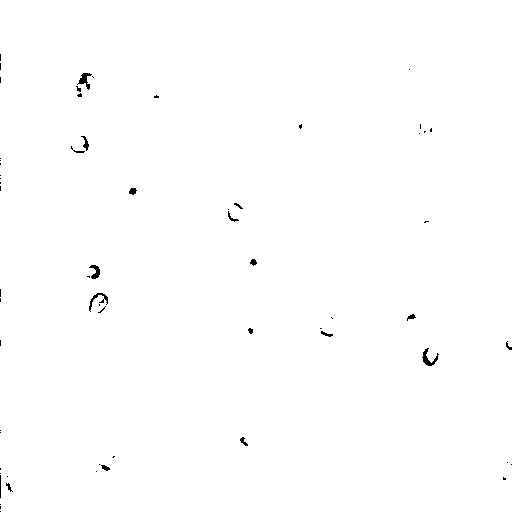micro-algae: (157, 0, 261, 90), (196, 167, 287, 258), (387, 259, 457, 326), (263, 0, 338, 58), (378, 1, 432, 57), (232, 9, 275, 55), (487, 238, 512, 307), (216, 279, 256, 321), (305, 268, 345, 308), (61, 67, 100, 105), (89, 446, 127, 479), (283, 101, 312, 139), (397, 55, 431, 87), (1, 466, 30, 497), (119, 176, 146, 208), (415, 109, 440, 139), (235, 83, 263, 109), (237, 320, 263, 348), (87, 291, 114, 317), (47, 236, 71, 265), (397, 305, 423, 331), (491, 458, 512, 488), (494, 391, 512, 423), (242, 250, 265, 273), (317, 316, 341, 336), (421, 343, 441, 367), (71, 133, 92, 155), (420, 215, 440, 237), (233, 430, 253, 451), (83, 263, 103, 281), (225, 202, 243, 221), (305, 13, 322, 33), (1, 53, 9, 76), (505, 331, 511, 352), (459, 0, 476, 6)
